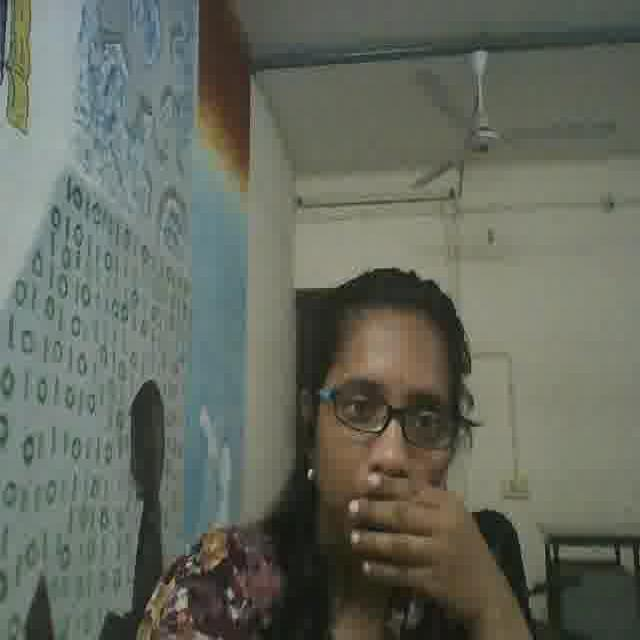Boredom: (316, 315, 455, 568)
